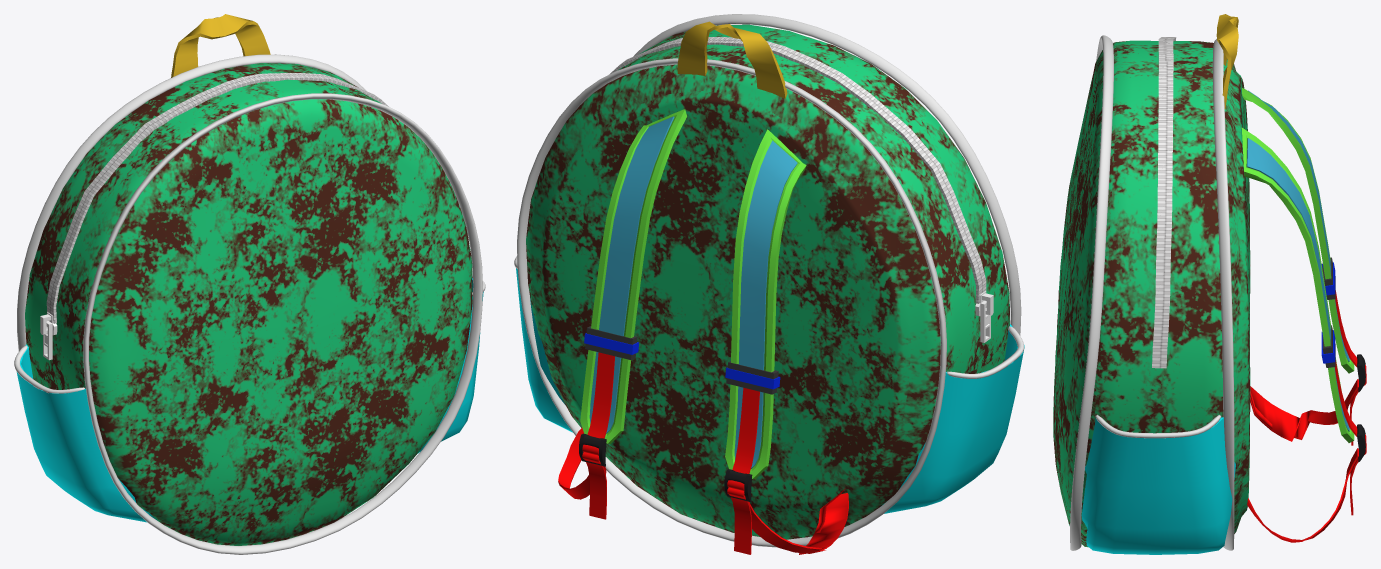
Rendered from Ranac 6.FBX.
3 renders of one model, left to right at view 1: azimuth 30°, elevation 25°; view 2: azimuth 150°, elevation 25°; view 3: azimuth 270°, elevation 25°, orthographic. The views are drawn at different scales.
Visible parts, largest first — view 1: Box045, Shape045, Object041, Object038; view 2: Box045, Object041, Shape045, Object038; view 3: Box045, Object041, Shape045, Object038.
Part boxes in pixels (x1,y1,x2,y2): Box045: (25,63,472,545); Shape045: (14,54,485,554); Object041: (16,14,483,522); Object038: (40,73,388,360); Box045: (526,24,1009,539); Object041: (516,21,1024,554); Shape045: (514,14,1024,547); Object038: (609,37,993,342); Box045: (1053,40,1250,547); Object041: (1081,14,1366,554); Shape045: (1070,35,1234,550); Object038: (1152,37,1176,368).
Bounding box in the file's own units: 161 × 165 × 92.35.
